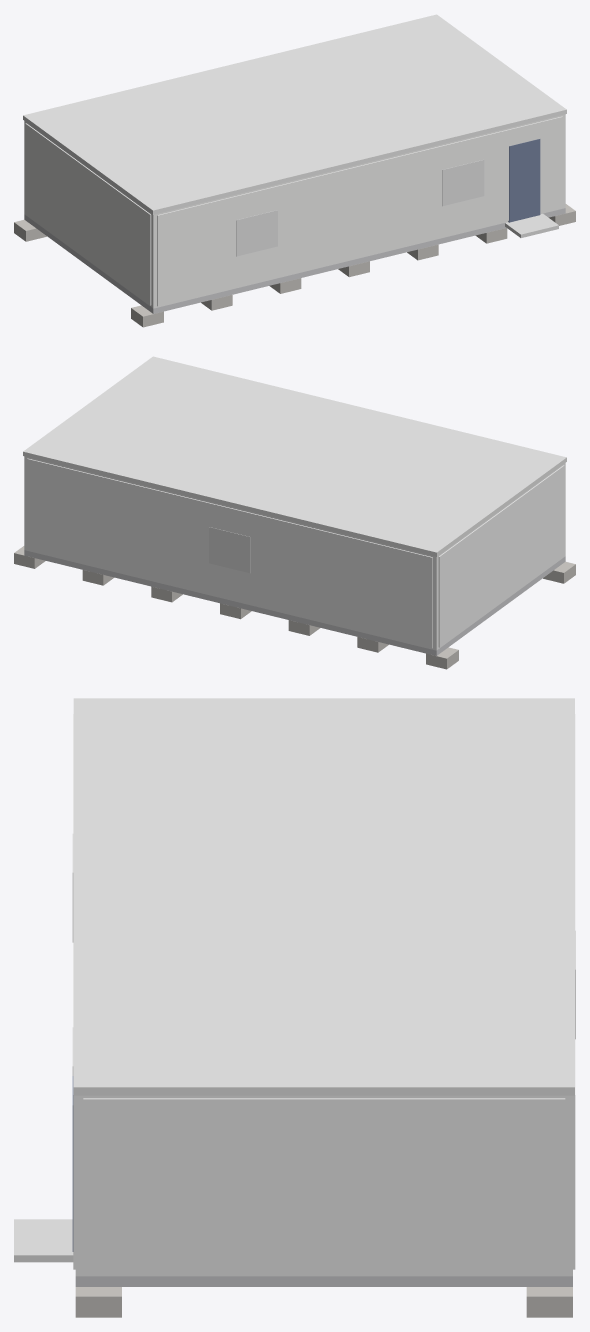
File: Studio-40-Village-LOD1.glb
The picture shows the model from 3 angles, top to bottom: view 1: azimuth 30°, elevation 25°; view 2: azimuth 150°, elevation 25°; view 3: azimuth 270°, elevation 25°; orthographic projection. The views are drawn at different scales.
Parts seen in each view (by area): view 1: RoofMain, ExteriorPanelsStandard, WindowsStandard, BaseFrame, ExteriorShell, FoundationBlocks, EntryDoor, AccessibilityVillage; view 2: RoofMain, ExteriorPanelsStandard, BaseFrame, ExteriorShell, FoundationBlocks, WindowsStandard; view 3: RoofMain, ExteriorPanelsStandard, ExteriorShell, BaseFrame, FoundationBlocks, AccessibilityVillage.
Boxes of the visible parts, box(x1,y1,x2,y2) form: RoofMain: box(23, 14, 566, 214); ExteriorPanelsStandard: box(25, 116, 562, 306); WindowsStandard: box(236, 160, 484, 256); BaseFrame: box(24, 208, 565, 313); ExteriorShell: box(24, 114, 565, 308); FoundationBlocks: box(14, 204, 575, 327); EntryDoor: box(508, 139, 540, 222); AccessibilityVillage: box(505, 213, 558, 237); RoofMain: box(23, 356, 566, 556); ExteriorPanelsStandard: box(27, 458, 564, 648); BaseFrame: box(24, 550, 565, 655); ExteriorShell: box(24, 456, 565, 650); FoundationBlocks: box(14, 546, 575, 669); WindowsStandard: box(209, 527, 250, 573); RoofMain: box(73, 698, 574, 1095); ExteriorPanelsStandard: box(73, 714, 575, 1273); ExteriorShell: box(75, 1095, 572, 1276); BaseFrame: box(75, 1276, 572, 1286); FoundationBlocks: box(75, 1287, 572, 1317); AccessibilityVillage: box(14, 1219, 73, 1262).
Bounding box in the file's own units: 12.49 × 3.17 × 7.29.
